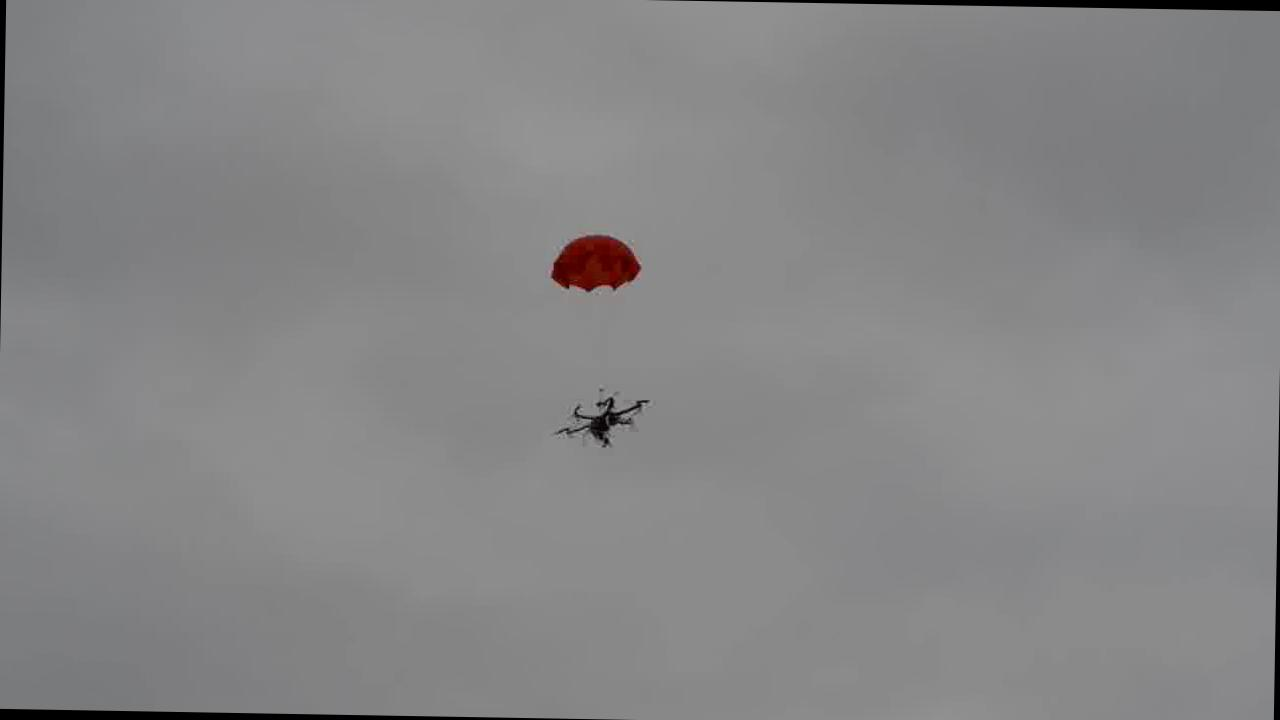drone: (556, 387, 652, 450)
